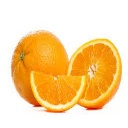orange: (10, 28, 68, 74)
